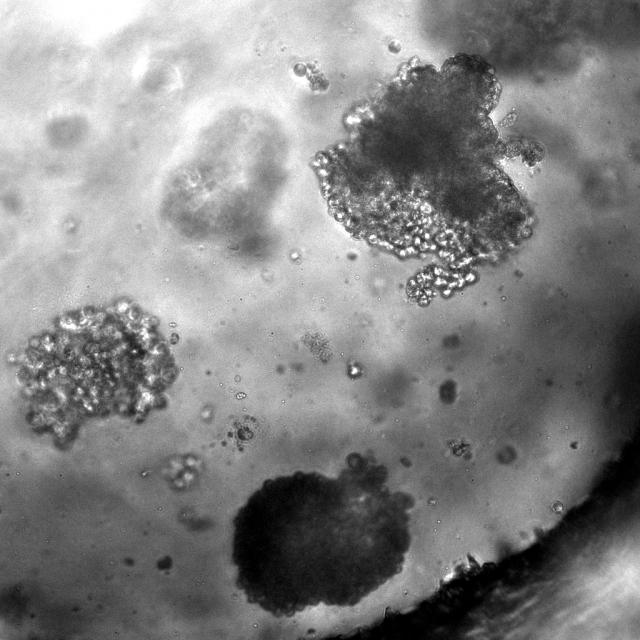organoid: (313, 53, 544, 305), (232, 452, 413, 616), (7, 297, 179, 448), (160, 107, 286, 254), (162, 453, 201, 490), (228, 414, 259, 452), (292, 61, 328, 92), (447, 438, 472, 460), (388, 39, 402, 54)
